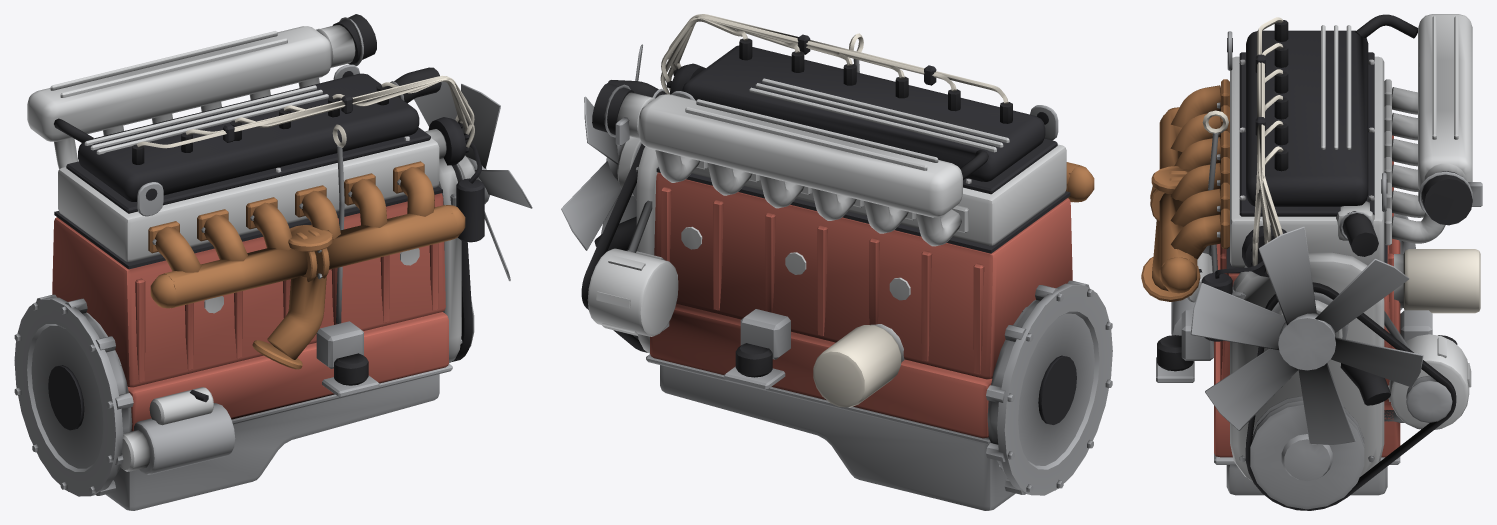
Rendered from eng_i6.glb.
The picture shows the model from 3 angles, left to right: view 1: azimuth 30°, elevation 25°; view 2: azimuth 150°, elevation 25°; view 3: azimuth 270°, elevation 25°; orthographic projection. The views are drawn at different scales.
Parts seen in each view (by area): view 1: PART; view 2: PART; view 3: PART.
Part boxes in pixels (bbox=[...]): PART: bbox=[14, 14, 532, 510]; PART: bbox=[561, 14, 1112, 510]; PART: bbox=[1141, 14, 1482, 510].
Size of the model in its own units: 0.8095 by 0.6505 by 0.531.
